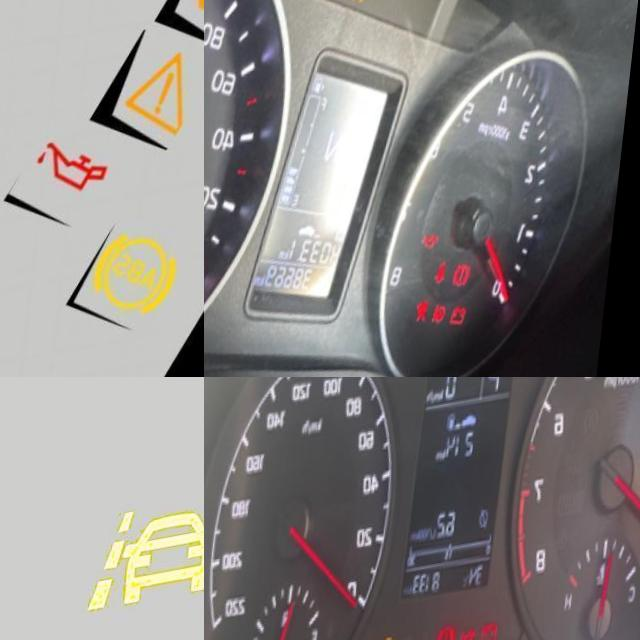Electronic Power Steering: (440, 316, 461, 346)
